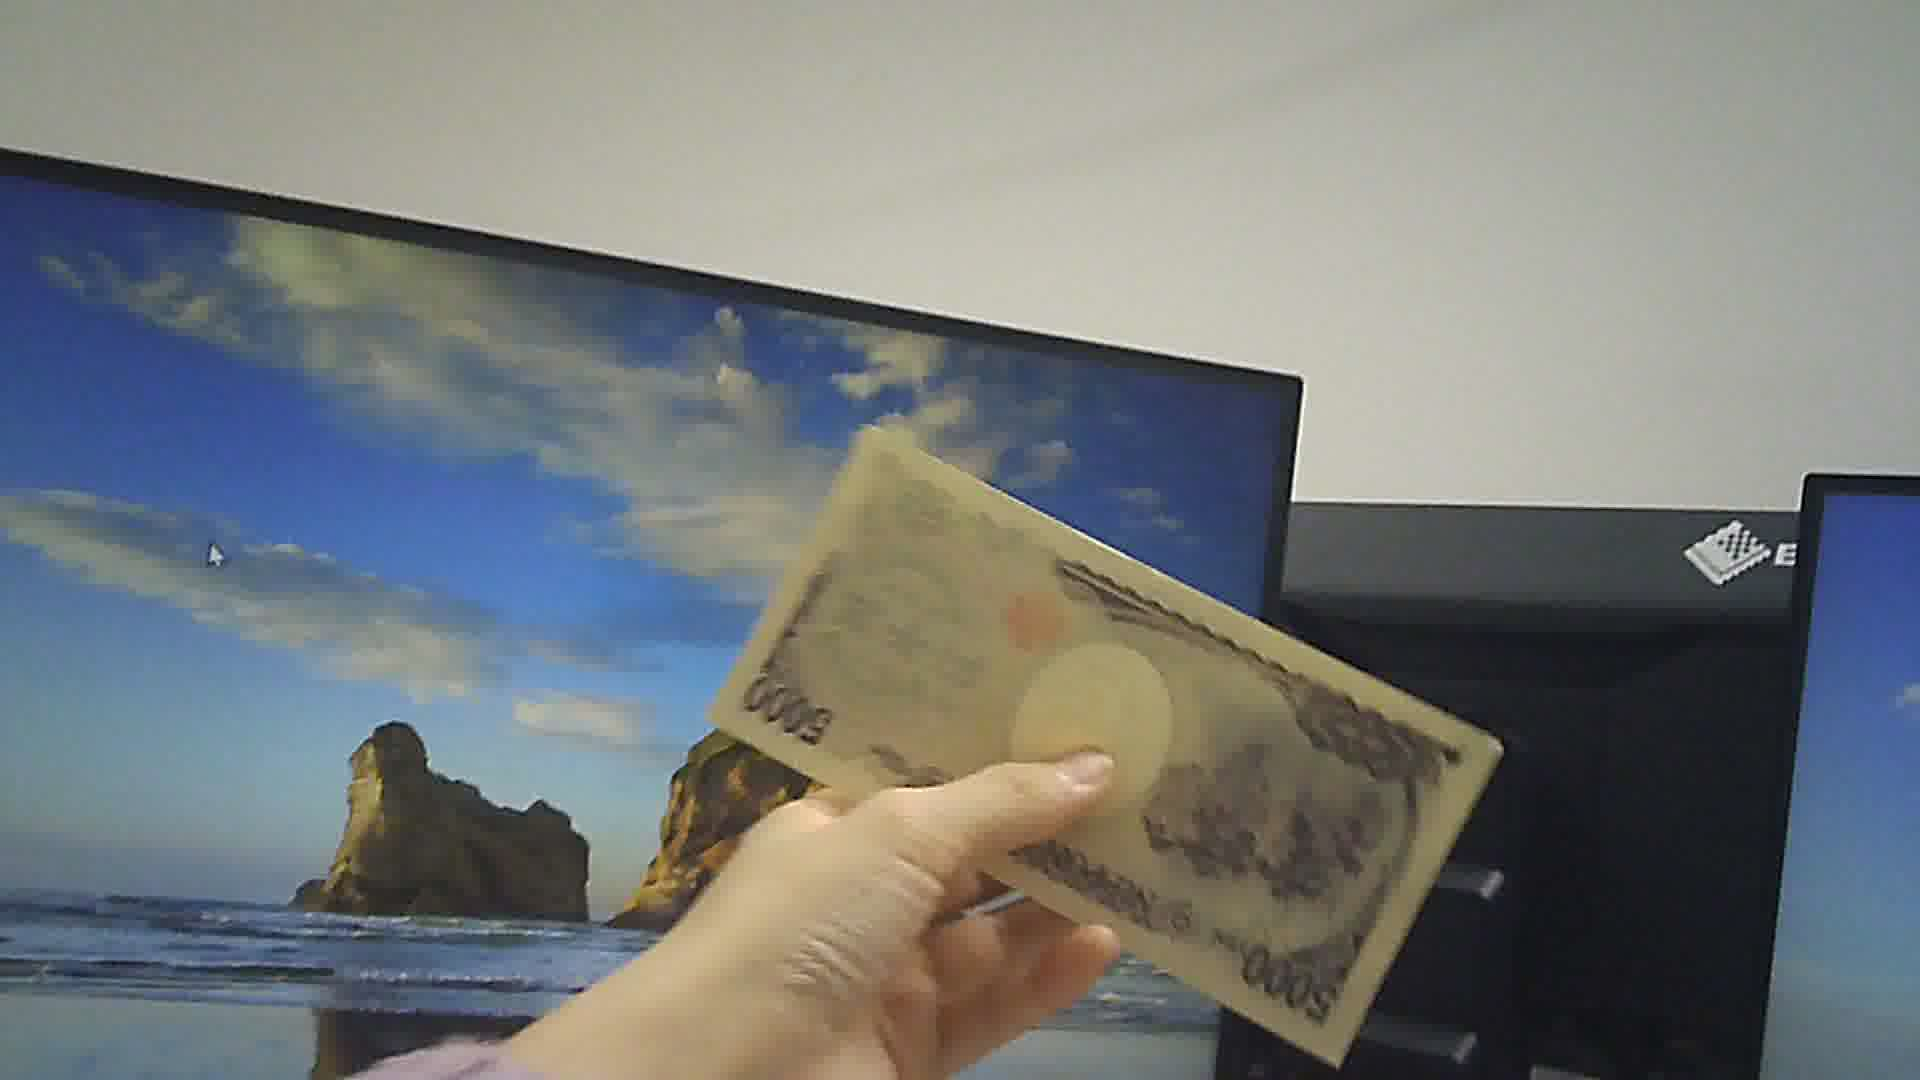5,000 Yen: (723, 415, 1506, 1079)
